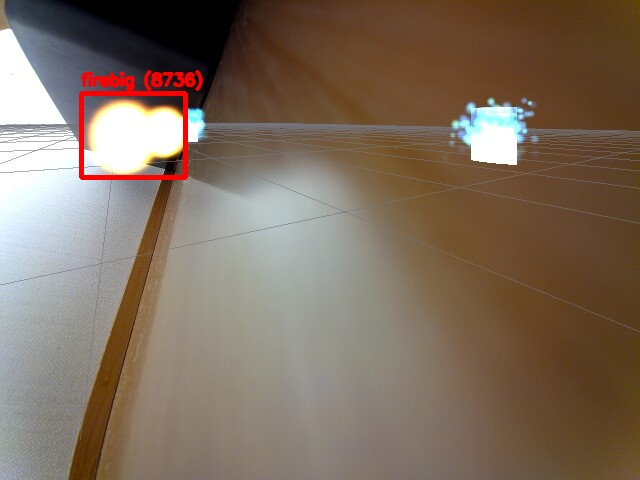firebig: (81, 93, 185, 177)
